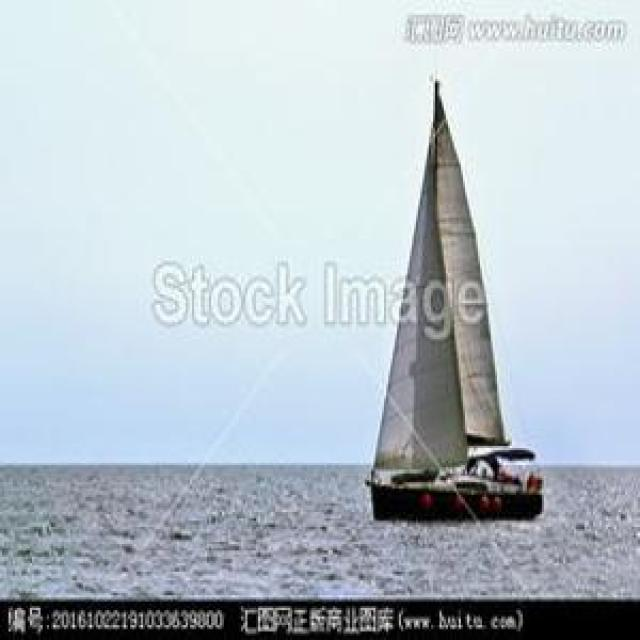sailboat: (378, 100, 553, 550)
